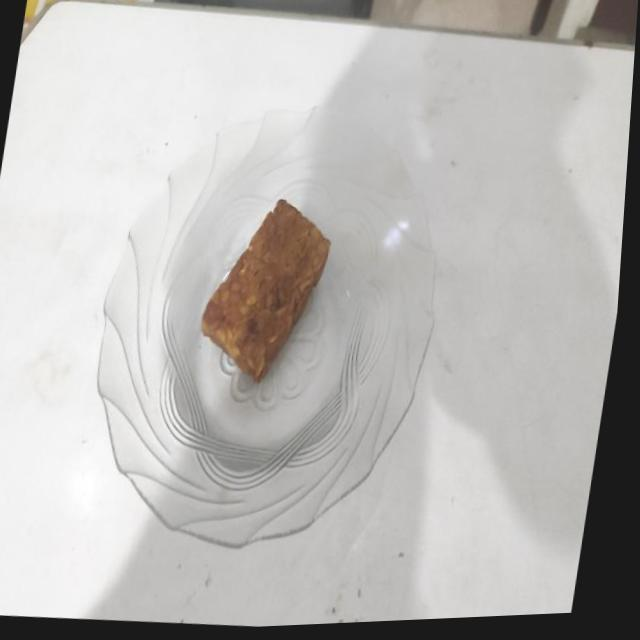tempe_goreng: (201, 200, 330, 382)
